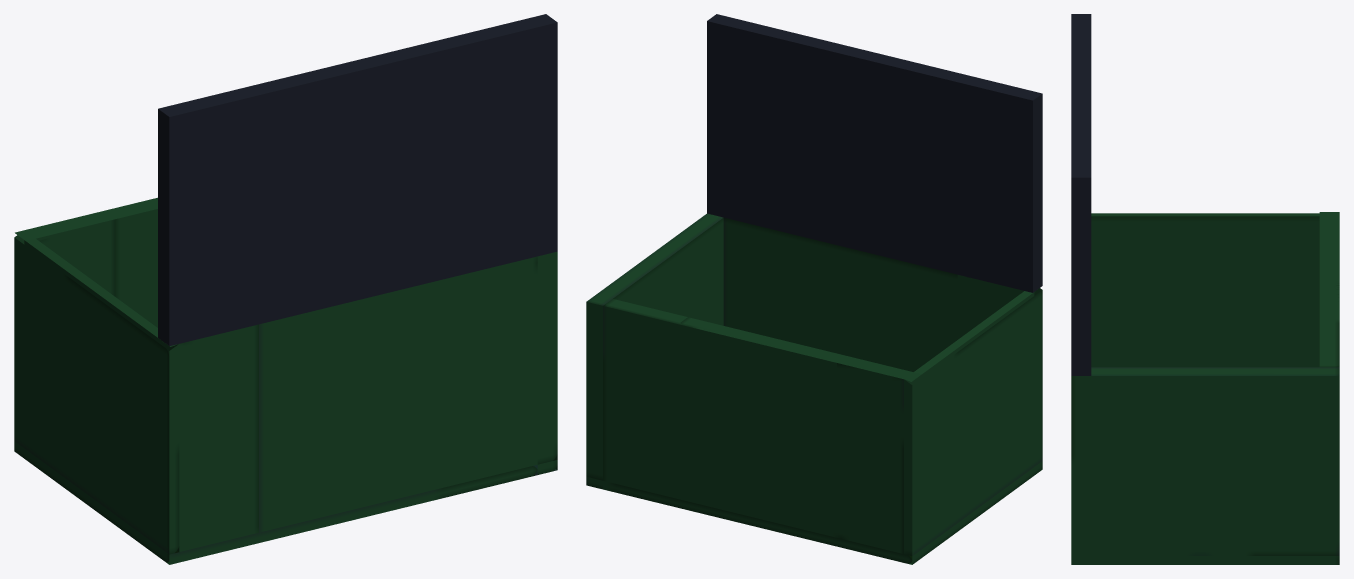
3 renders of one model, left to right at view 1: azimuth 30°, elevation 25°; view 2: azimuth 150°, elevation 25°; view 3: azimuth 270°, elevation 25°, orthographic. The views are drawn at different scales.
Visible parts, largest first — view 1: cube; view 2: cube; view 3: cube.
Boxes of the visible parts, x1,y1,x2,y2 form: cube: (14,14,557,564); cube: (586,14,1042,564); cube: (1071,14,1339,564).
Size of the model in its own units: 2.44 by 2.69 by 1.69.
Materials: 1 (1 with a texture image).
